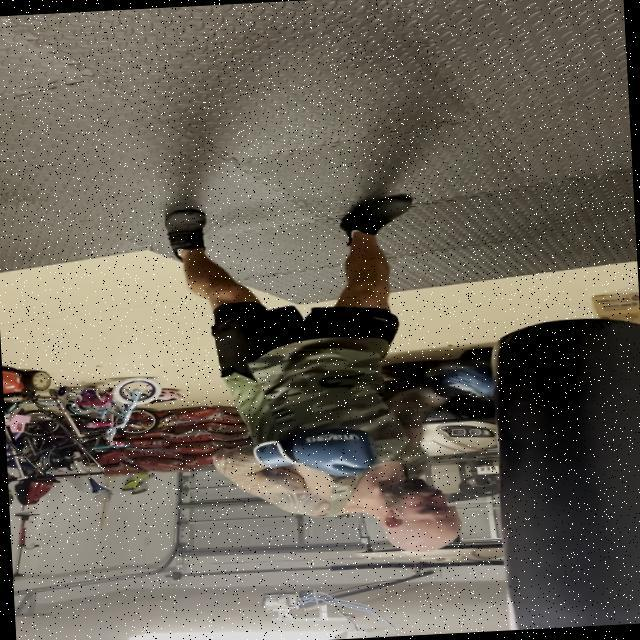bag: (481, 313, 640, 631)
uppercut: (211, 341, 514, 570)
